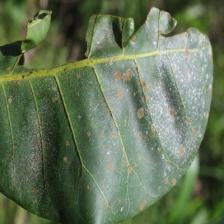red rust: (0, 7, 214, 223)
